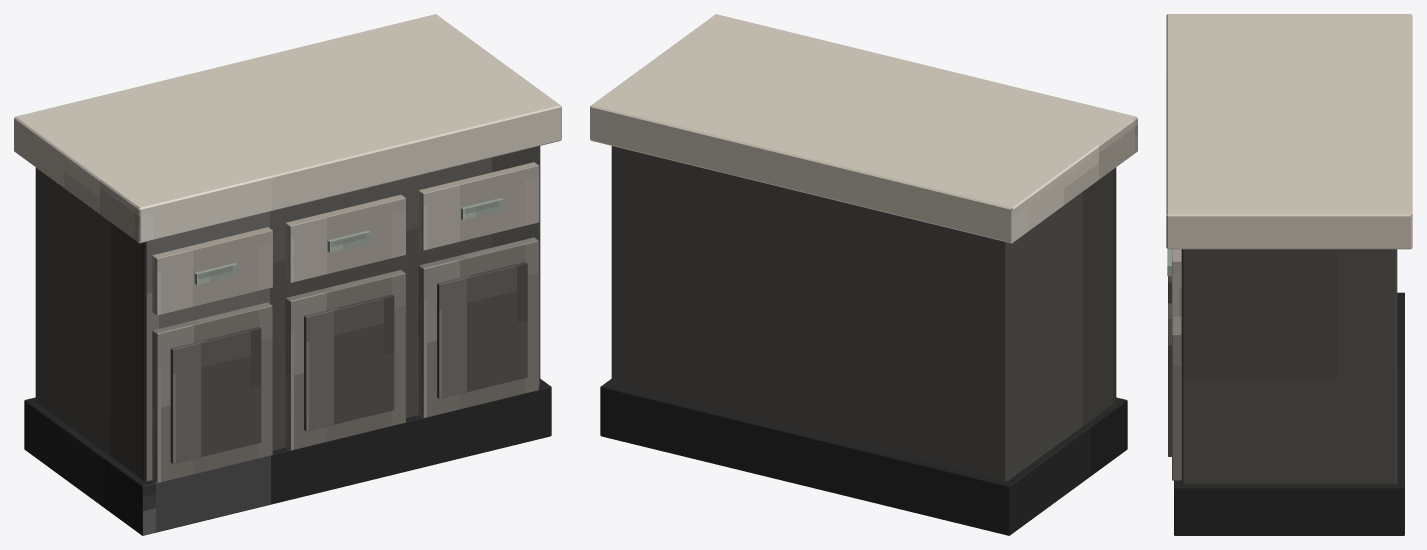
File: wooden_dresser_sideboard_ash.glb
3 renders of one model, left to right at view 1: azimuth 30°, elevation 25°; view 2: azimuth 150°, elevation 25°; view 3: azimuth 270°, elevation 25°, orthographic. The views are drawn at different scales.
Parts seen in each view (by area): view 1: DresserTop, DresserBody, DresserPlinth, DoorInset_1, DoorInset_3, DoorInset_2, LowerDoor_3, LowerDoor_1, LowerDoor_2, TopDrawer_3, TopDrawer_1, TopDrawer_2; view 2: DresserBody, DresserTop, DresserPlinth; view 3: DresserTop, DresserBody, DresserPlinth, LowerDoor_3, TopDrawer_3, DoorInset_3.
Part boxes in pixels (x1,y1,x2,y2): DresserTop: (14, 14, 561, 243); DresserBody: (35, 146, 540, 486); DresserPlinth: (24, 379, 551, 535); DoorInset_1: (170, 327, 261, 463); DoorInset_3: (437, 262, 527, 398); DoorInset_2: (304, 294, 394, 431); LowerDoor_3: (418, 237, 538, 418); LowerDoor_1: (152, 302, 272, 483); LowerDoor_2: (285, 270, 405, 450); TopDrawer_3: (418, 162, 539, 250); TopDrawer_1: (152, 227, 272, 315); TopDrawer_2: (285, 194, 405, 282); DresserBody: (611, 146, 1116, 481); DresserTop: (590, 14, 1137, 243); DresserPlinth: (600, 379, 1127, 535); DresserTop: (1166, 14, 1412, 249); DresserBody: (1181, 249, 1397, 484); DresserPlinth: (1174, 292, 1404, 535); LowerDoor_3: (1172, 316, 1181, 480); TopDrawer_3: (1172, 249, 1181, 316); DoorInset_3: (1168, 303, 1171, 456).
Bounding box in the file's own units: 1.24 × 0.93 × 0.64.
1 material, 1 textured.
